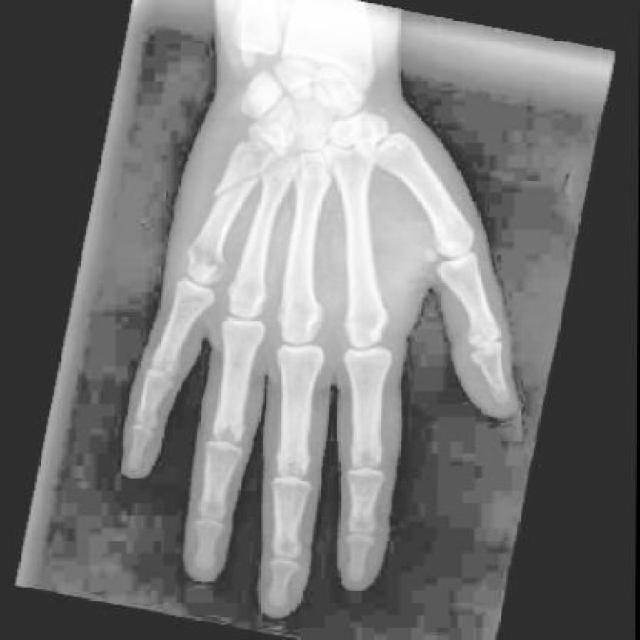Fracture: (209, 165, 267, 225), (188, 242, 238, 296)
